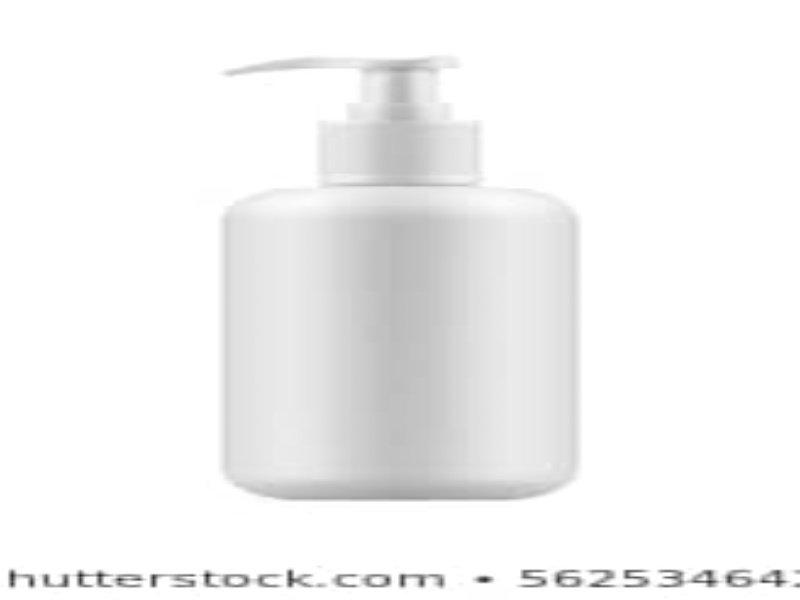shampoo-bottle: (212, 53, 589, 503)
